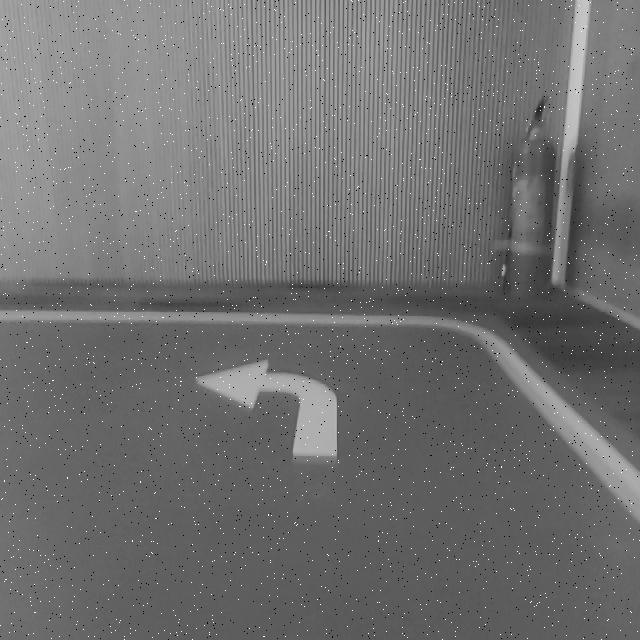right_lane: (481, 333, 640, 527)
